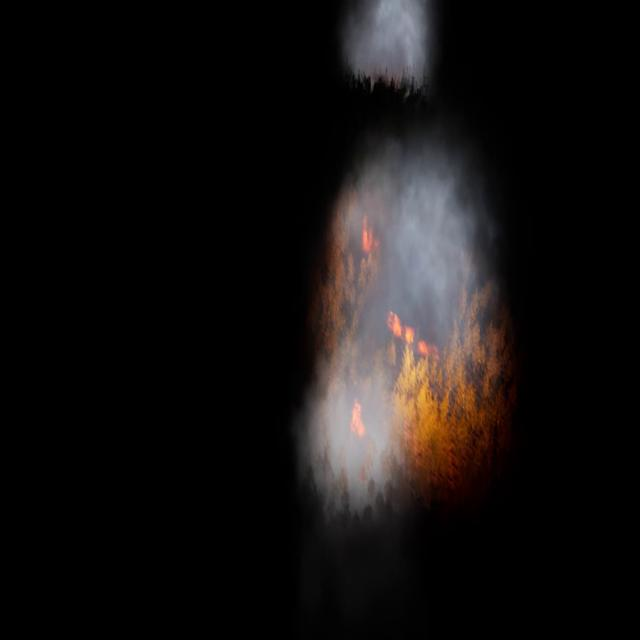fire: (389, 312, 504, 484), (359, 215, 378, 259), (349, 394, 366, 438)
smoke: (297, 136, 512, 524), (344, 0, 439, 86)
